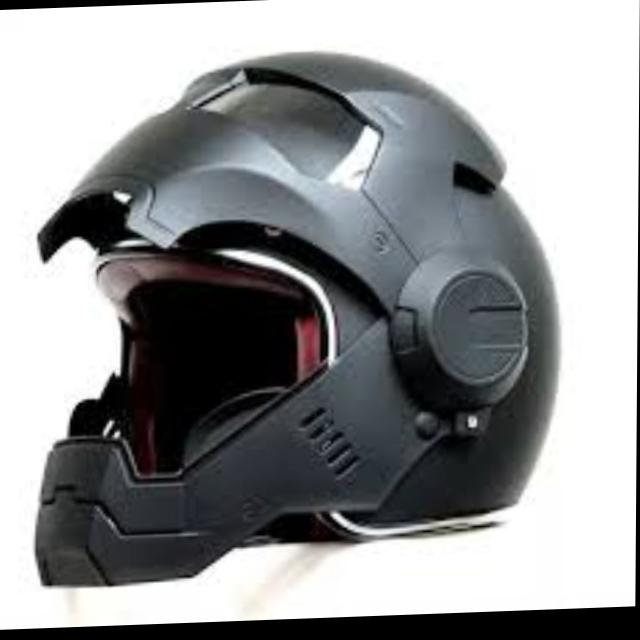motorcycle-helmets: (31, 30, 567, 592)
